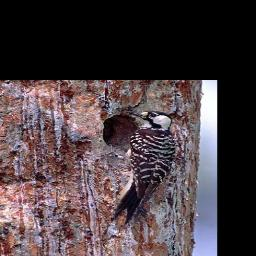Woodpecker: (113, 109, 175, 224)
